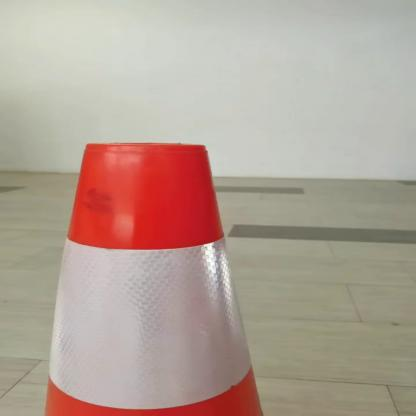cone: (27, 135, 290, 416)
